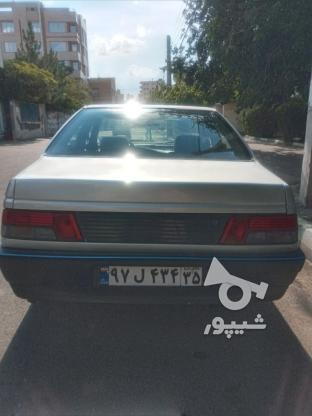car: (94, 266, 206, 288)
